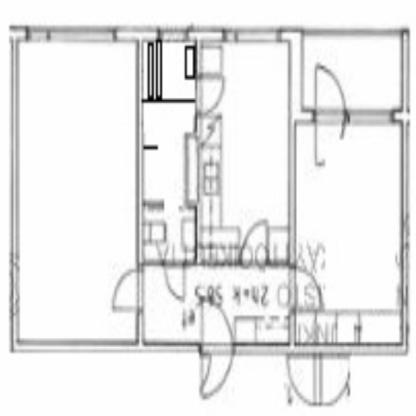door: (312, 58, 350, 168), (196, 297, 234, 399), (287, 354, 354, 408), (108, 266, 146, 315), (240, 214, 270, 269), (296, 265, 326, 314), (162, 258, 186, 304), (196, 75, 224, 113)
zone: (143, 41, 290, 343), (18, 39, 135, 340), (298, 119, 400, 343), (304, 33, 401, 110)
